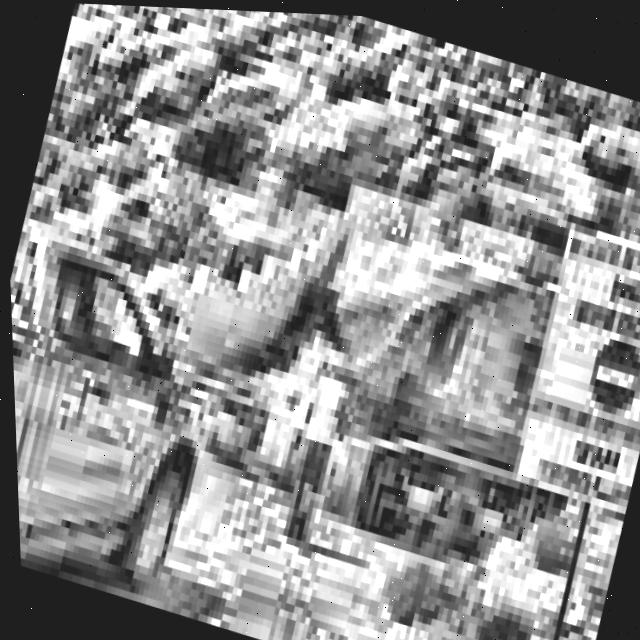light_vehicle: (6, 195, 308, 627)
